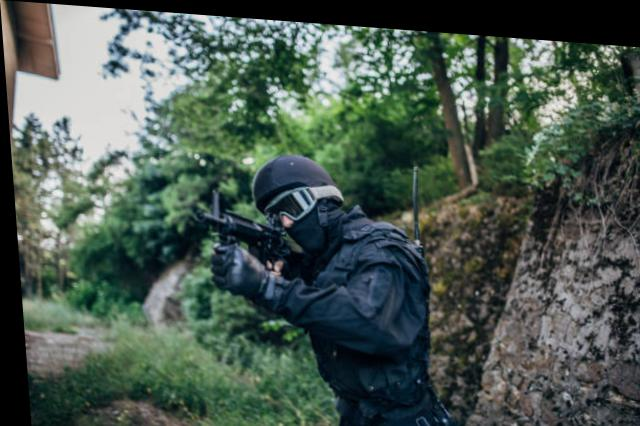other: (231, 163, 440, 410)
